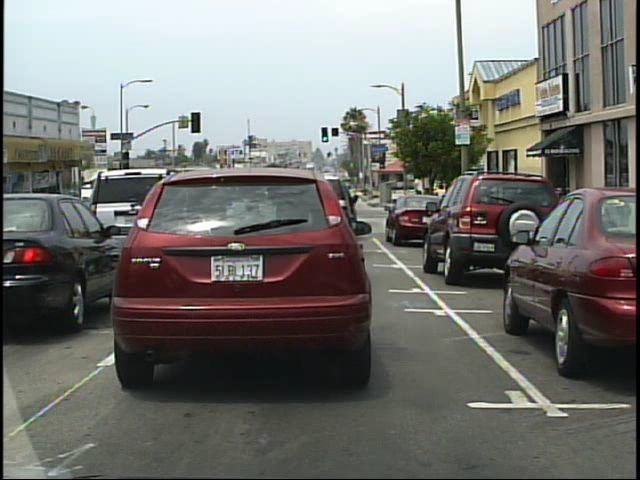person: (419, 188, 431, 222), (418, 190, 427, 221)
